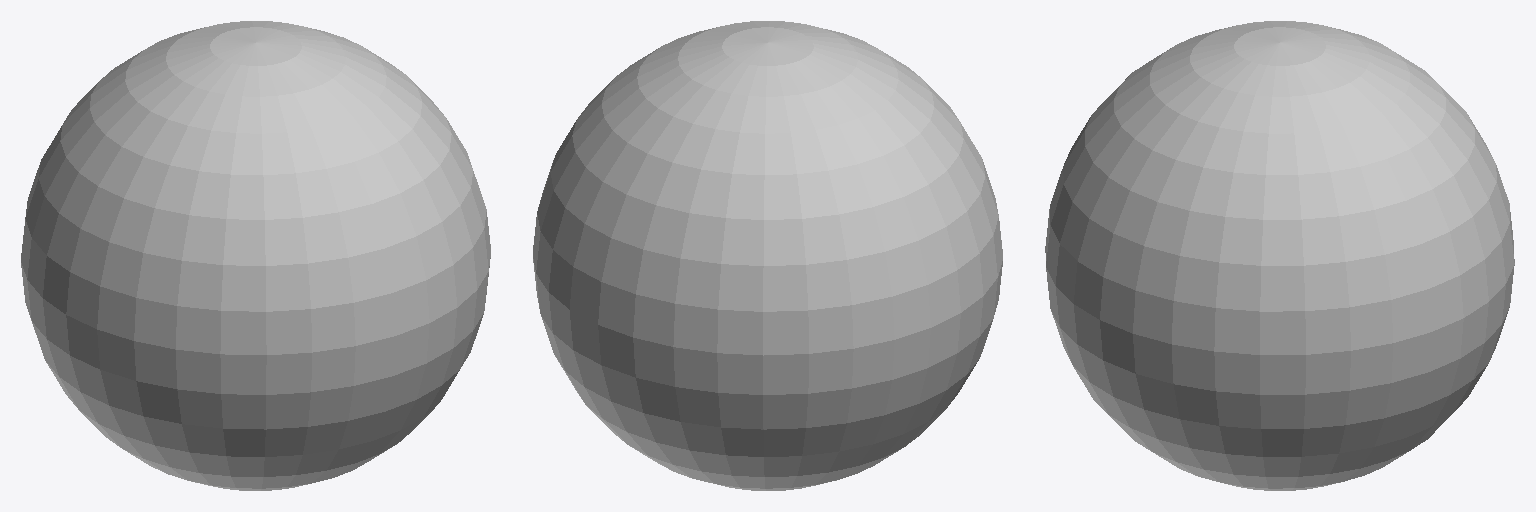
File: mesh_bodyjoint_r3.obj
The picture shows the model from 3 angles: view 1: azimuth 30°, elevation 25°; view 2: azimuth 150°, elevation 25°; view 3: azimuth 270°, elevation 25°; orthographic projection.
Visible parts, largest first — view 1: Sphere.005_Sphere.006; view 2: Sphere.005_Sphere.006; view 3: Sphere.005_Sphere.006.
Part boxes in pixels (x1,y1,x2,y2): Sphere.005_Sphere.006: (21,21,490,490); Sphere.005_Sphere.006: (533,21,1002,490); Sphere.005_Sphere.006: (1045,21,1514,490).
Size of the model in its own units: 0.2989 by 0.3 by 0.2989.